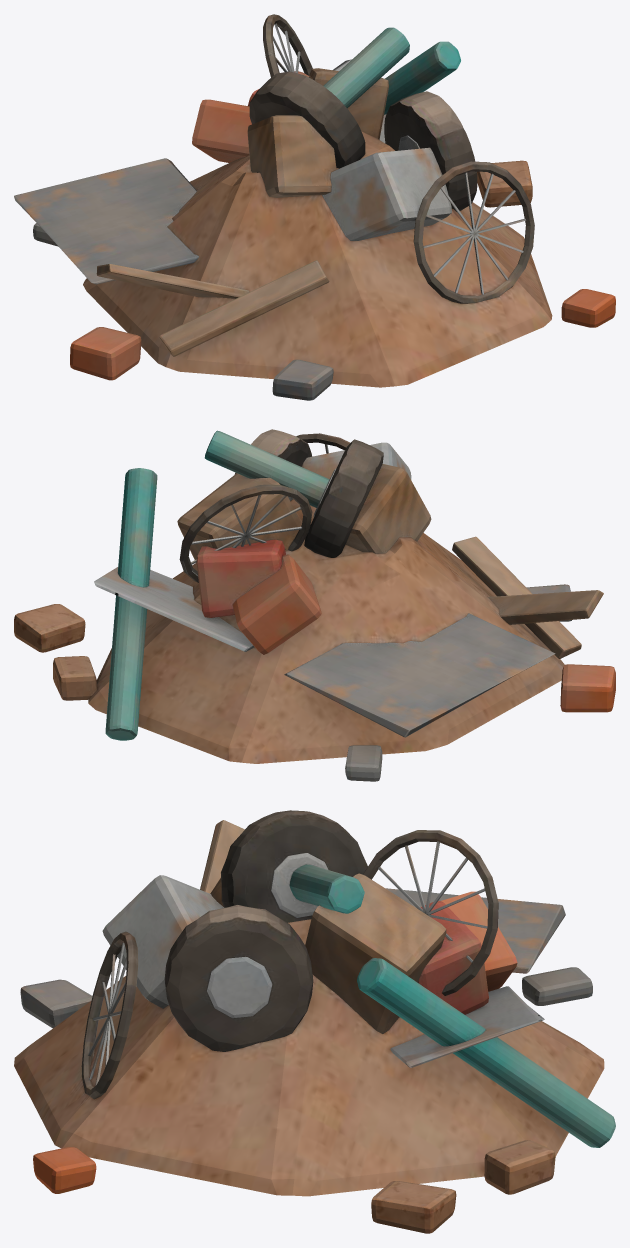
The model's file is scrap_heap_pile.glb.
3 views of the same model, one above another, from view 1: azimuth 30°, elevation 25°; view 2: azimuth 150°, elevation 25°; view 3: azimuth 270°, elevation 25° (orthographic). The views are drawn at different scales.
Parts seen in each view (by area): view 1: Pieces_Mesh, ScrapHeap_Mesh, Bike13_Mesh, Bike5_Mesh; view 2: Pieces_Mesh, ScrapHeap_Mesh, Bike5_Mesh, Bike13_Mesh; view 3: Pieces_Mesh, ScrapHeap_Mesh, Bike13_Mesh, Bike5_Mesh.
Part boxes in pixels (<box>): Pieces_Mesh: <box>14,27,615,400</box>; ScrapHeap_Mesh: <box>83,131,552,387</box>; Bike13_Mesh: <box>413,161,534,303</box>; Bike5_Mesh: <box>263,14,312,77</box>; Pieces_Mesh: <box>14,429,615,781</box>; ScrapHeap_Mesh: <box>88,499,564,763</box>; Bike5_Mesh: <box>179,484,312,582</box>; Bike13_Mesh: <box>296,433,350,453</box>; Pieces_Mesh: <box>20,810,615,1233</box>; ScrapHeap_Mesh: <box>14,919,604,1196</box>; Bike13_Mesh: <box>81,931,138,1099</box>; Bike5_Mesh: <box>363,830,498,995</box>.
Size of the model in its own units: 3.07 by 1.3 by 2.56.
Materials: 4 (4 with a texture image).
